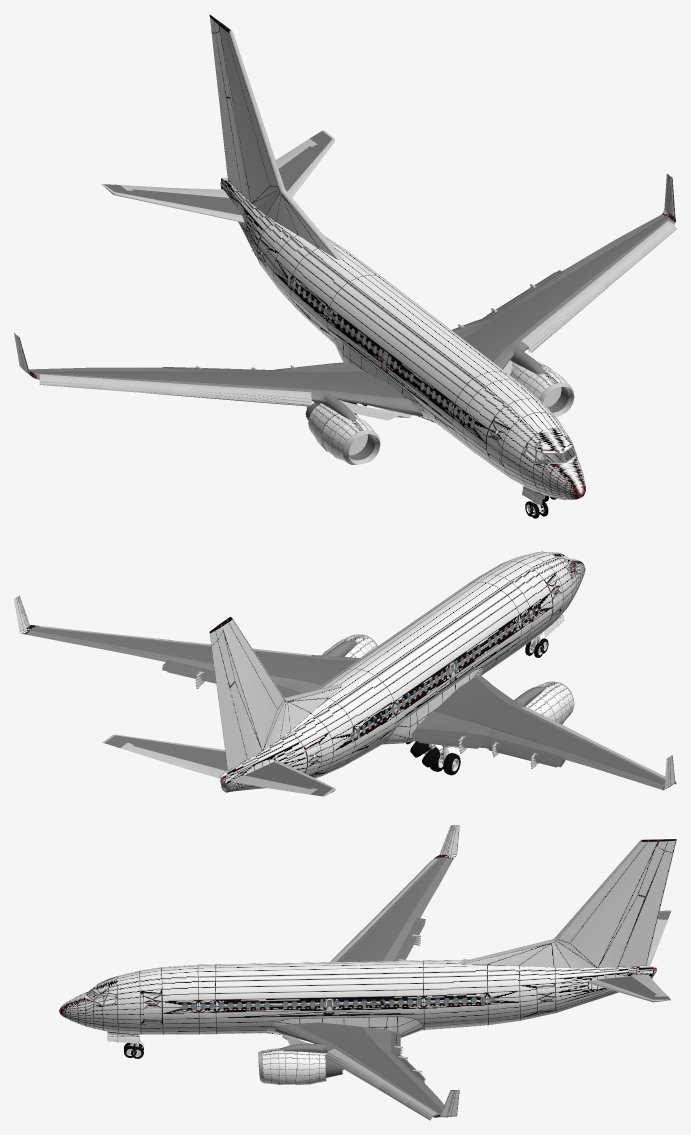
3 views of the same model, one above another, from view 1: azimuth 30°, elevation 25°; view 2: azimuth 150°, elevation 25°; view 3: azimuth 270°, elevation 25° (orthographic). The views are drawn at different scales.
Parts seen in each view (by area): view 1: Exterior, Pose_flaps_0, Pose_flaps_1, Pose_flaps_2, Pose_flaps_4; view 2: Exterior, Pose_flaps_1, Pose_flaps_0, Pose_gear_3, Pose_flaps_2, Pose_flaps_3, Pose_flaps_4, Pose_gear_2; view 3: Exterior, Pose_flaps_0, Pose_flaps_1, Pose_flaps_2.
Part boxes in pixels (box(x1,y1,x2,y2)): Exterior: box(14, 14, 676, 499); Pose_flaps_0: box(39, 221, 673, 414); Pose_flaps_1: box(39, 225, 675, 419); Pose_flaps_2: box(39, 227, 676, 420); Pose_flaps_4: box(40, 236, 665, 418); Exterior: box(14, 551, 676, 796); Pose_flaps_1: box(162, 653, 563, 762); Pose_flaps_0: box(39, 626, 665, 778); Pose_gear_3: box(429, 614, 564, 775); Pose_flaps_2: box(162, 665, 676, 784); Pose_flaps_3: box(162, 667, 564, 766); Pose_flaps_4: box(162, 669, 676, 784); Pose_gear_2: box(410, 633, 548, 767); Exterior: box(59, 825, 676, 1117); Pose_flaps_0: box(284, 859, 437, 1116); Pose_flaps_1: box(283, 860, 432, 1117); Pose_flaps_2: box(282, 920, 431, 1120).
Bounding box in the file's own units: 34.85 × 13.38 × 36.91.
53 materials, 17 textured.
